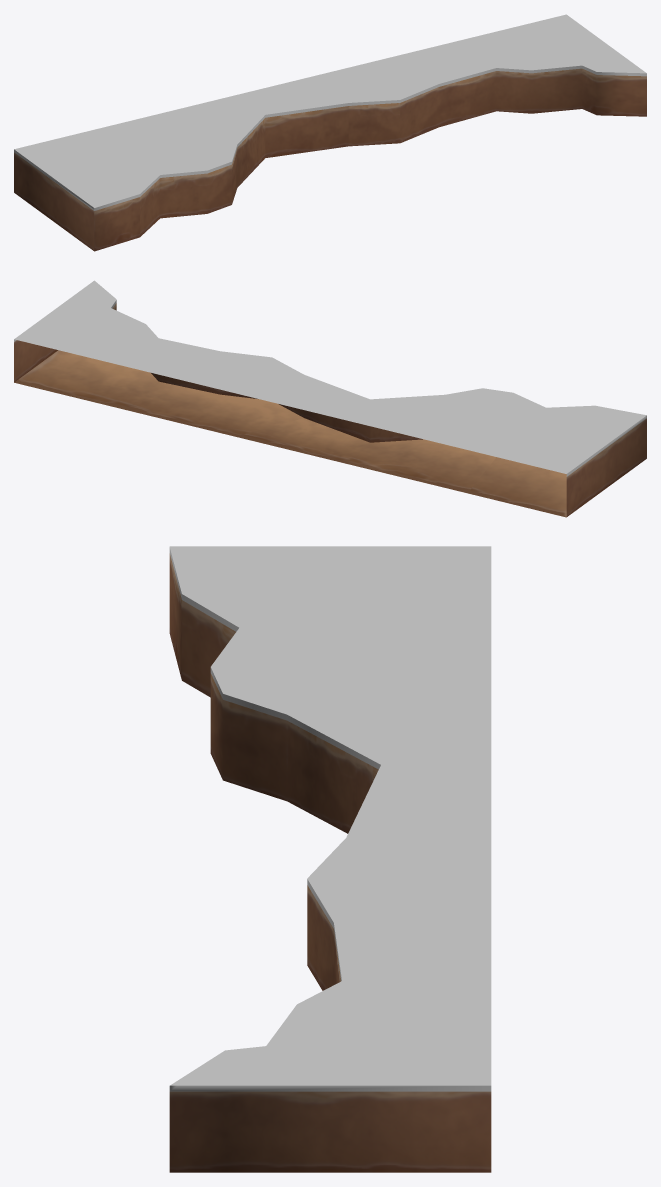
File: SM_Floor_Broken_01.V2.fbx
The picture shows the model from 3 angles, top to bottom: view 1: azimuth 30°, elevation 25°; view 2: azimuth 150°, elevation 25°; view 3: azimuth 270°, elevation 25°; orthographic projection. The views are drawn at different scales.
Parts seen in each view (by area): view 1: SM_Floor_Broken_01.V2; view 2: SM_Floor_Broken_01.V2; view 3: SM_Floor_Broken_01.V2.
Boxes of the visible parts, left/top/right/bottom form: SM_Floor_Broken_01.V2: left=14, top=14, right=646, bottom=251; SM_Floor_Broken_01.V2: left=14, top=280, right=646, bottom=517; SM_Floor_Broken_01.V2: left=169, top=546, right=491, bottom=1172.
Size of the model in its own units: 400 by 30 by 101.
